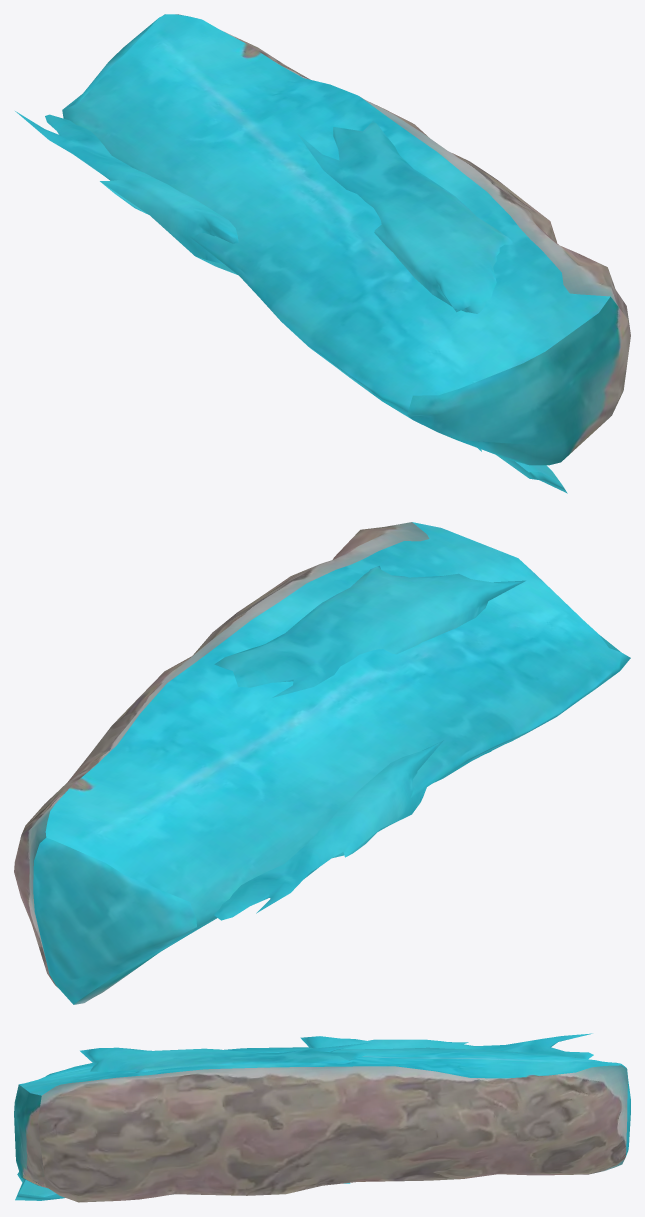
3 views of the same model, one above another, from view 1: azimuth 30°, elevation 25°; view 2: azimuth 150°, elevation 25°; view 3: azimuth 270°, elevation 25° (orthographic). The views are drawn at different scales.
Parts seen in each view (by area): view 1: SM_Chopped_MagicTree_log_01_LOD0; view 2: SM_Chopped_MagicTree_log_01_LOD0; view 3: SM_Chopped_MagicTree_log_01_LOD0.
Boxes of the visible parts, bbox=[...] form: SM_Chopped_MagicTree_log_01_LOD0: bbox=[15, 14, 630, 493]; SM_Chopped_MagicTree_log_01_LOD0: bbox=[14, 522, 630, 1004]; SM_Chopped_MagicTree_log_01_LOD0: bbox=[14, 1033, 630, 1202].
Size of the model in its own units: 0.2607 by 0.1902 by 0.7021.
